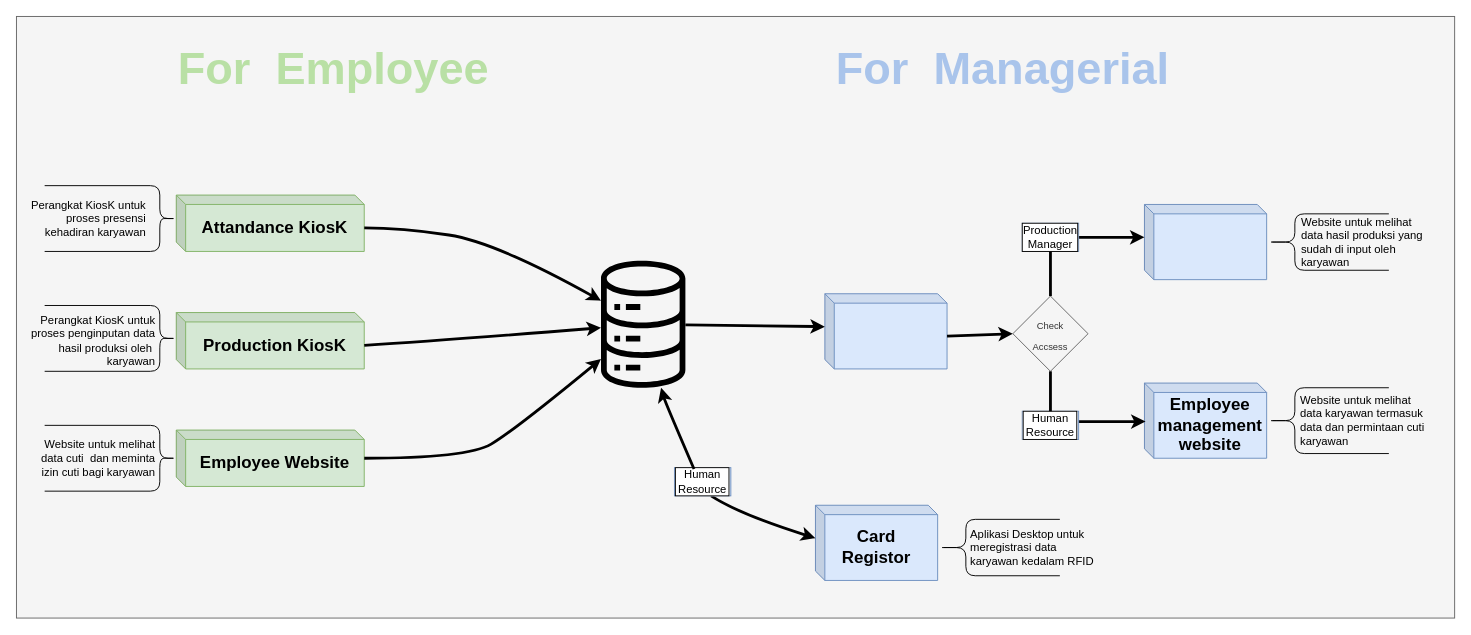
Some shapes in this 1471 by 635 pixel diagram are drawn without their labels. Each missing label, with the centre of its shape:
"Managemen Website" goes at (885,331).
"Production management website" goes at (1205,242).
